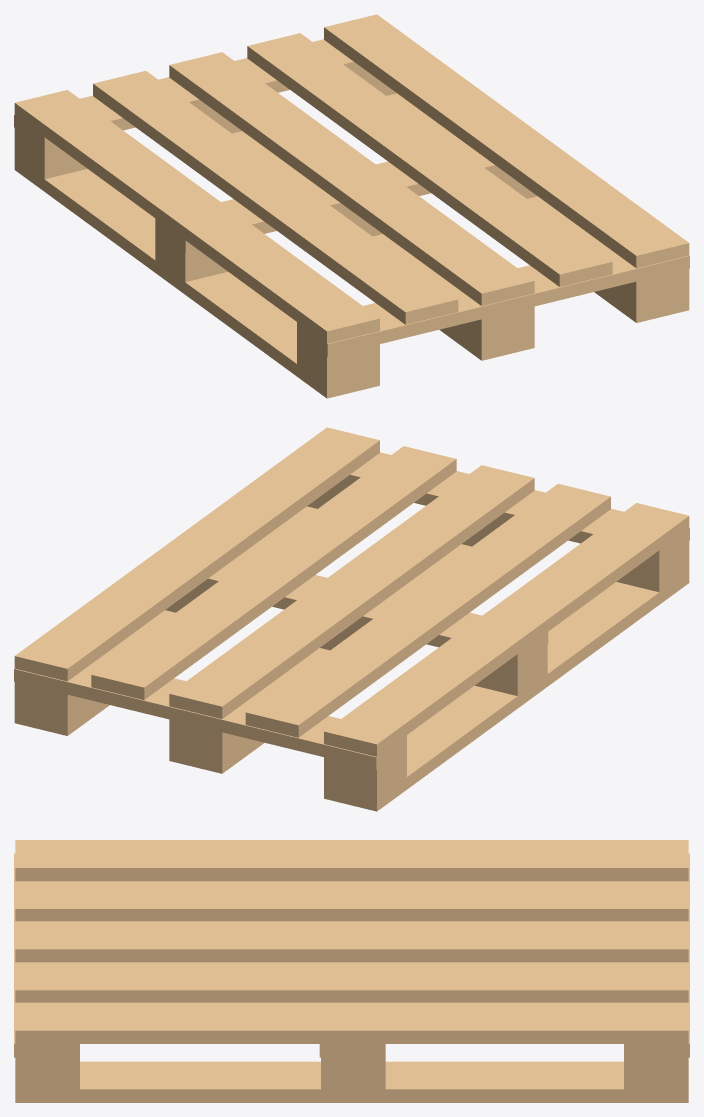
File: palette.fbx
3 views of the same model, one above another, from view 1: azimuth 30°, elevation 25°; view 2: azimuth 150°, elevation 25°; view 3: azimuth 270°, elevation 25° (orthographic). The views are drawn at different scales.
Parts seen in each view (by area): view 1: palette; view 2: palette; view 3: palette.
Part boxes in pixels (<box>): palette: <box>14,14,689,398</box>; palette: <box>14,427,689,811</box>; palette: <box>14,840,689,1102</box>.
Size of the model in its own units: 131 by 23.28 by 197.
